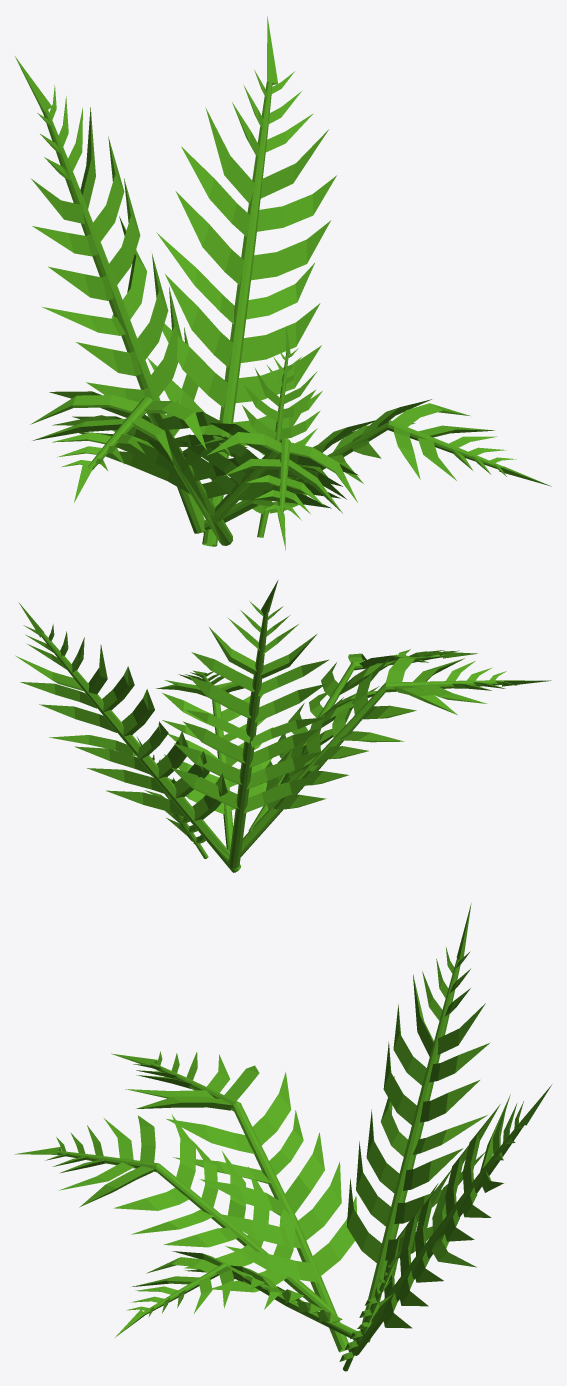
Rendered from Isl_12_Fern_1.fbx.
3 renders of one model, top to bottom at view 1: azimuth 30°, elevation 25°; view 2: azimuth 150°, elevation 25°; view 3: azimuth 270°, elevation 25°, orthographic. The views are drawn at different scales.
Visible parts, largest first — view 1: Isl_12_Fern_1; view 2: Isl_12_Fern_1; view 3: Isl_12_Fern_1.
Boxes of the visible parts, x1,y1,x2,y2 form: Isl_12_Fern_1: (15, 16, 551, 550); Isl_12_Fern_1: (15, 580, 551, 872); Isl_12_Fern_1: (14, 903, 551, 1371).
Bounding box in the file's own units: 125 × 141 × 115.
Materials: 1 (1 with a texture image).
